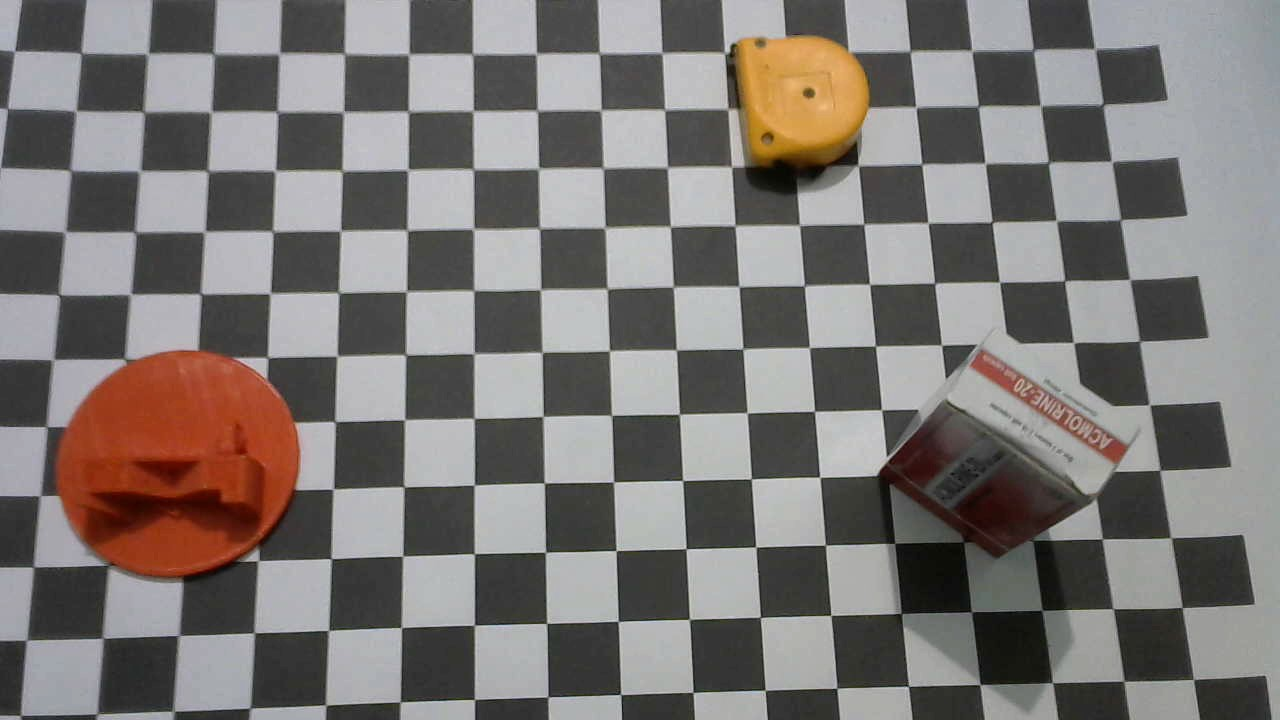blue: (729, 31, 875, 172)
green: (54, 349, 306, 582)
red: (881, 329, 1144, 560)
